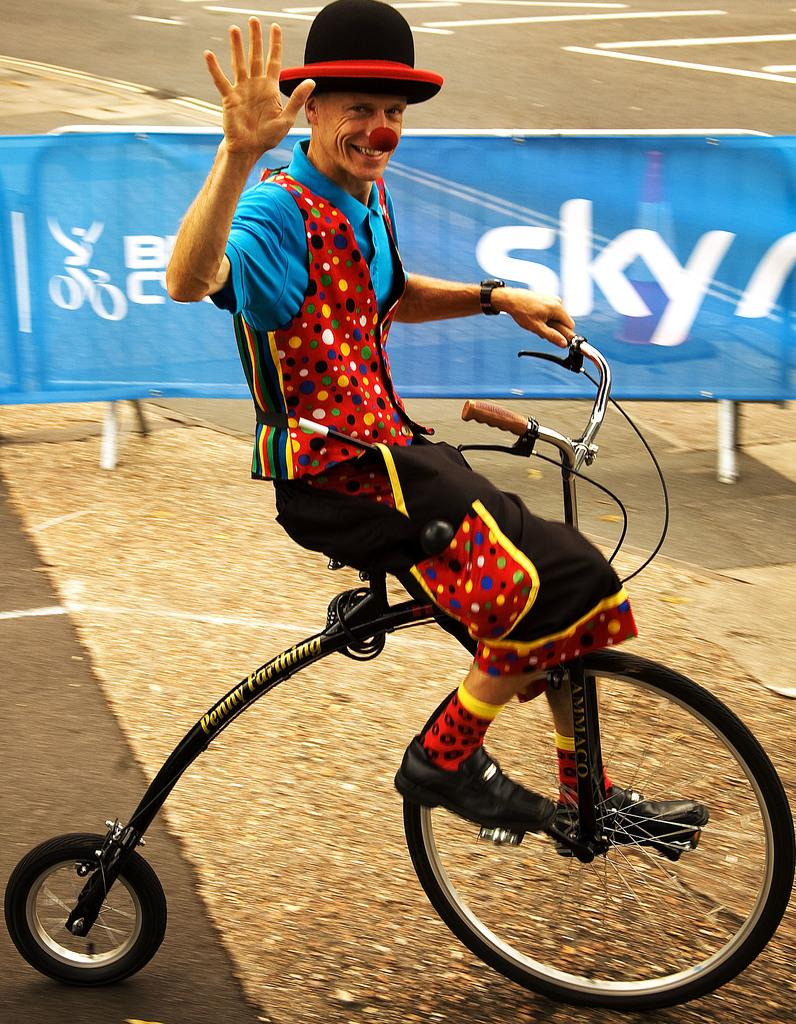Hat: (272, 0, 446, 102)
